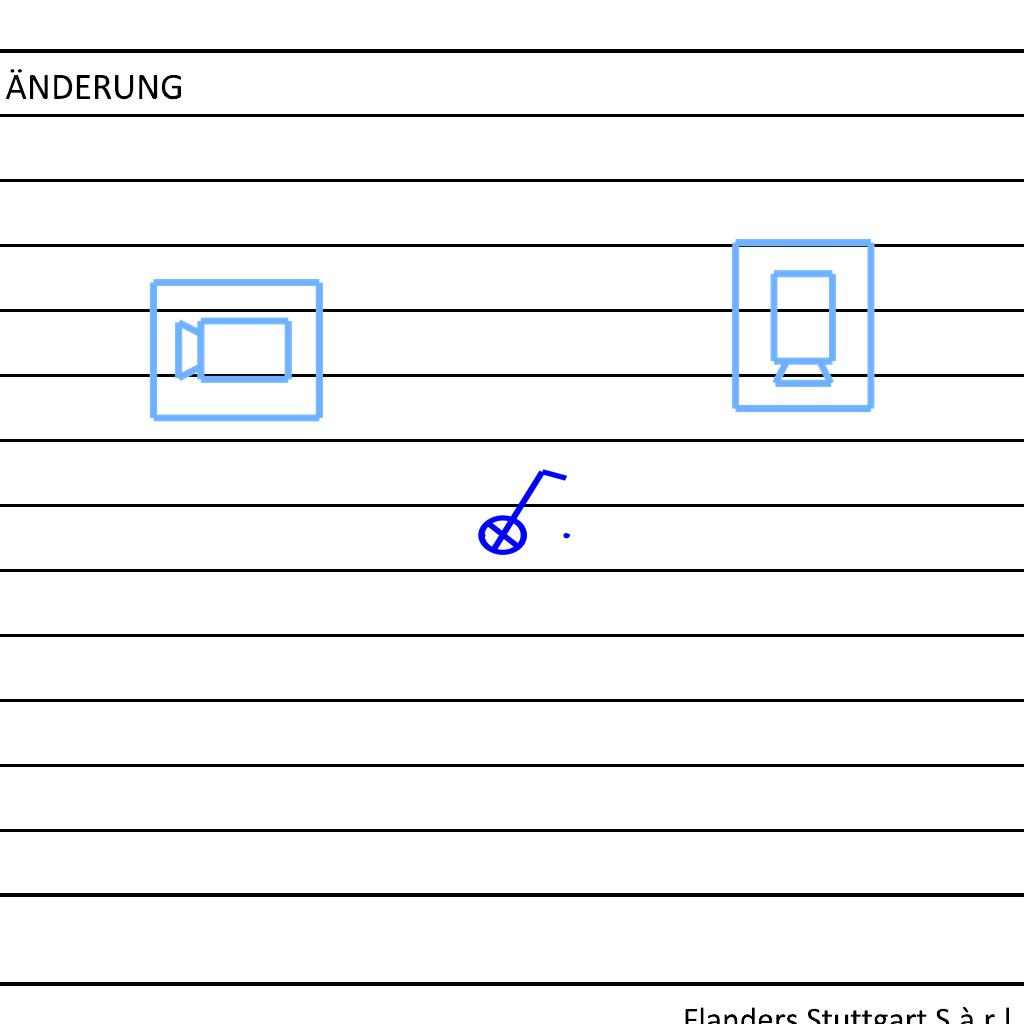Ausschalter_beleuchtet: (464, 461, 576, 557)
KFO_Kamera_mit_Festobjektiv: (146, 272, 328, 426), (725, 234, 879, 416)
